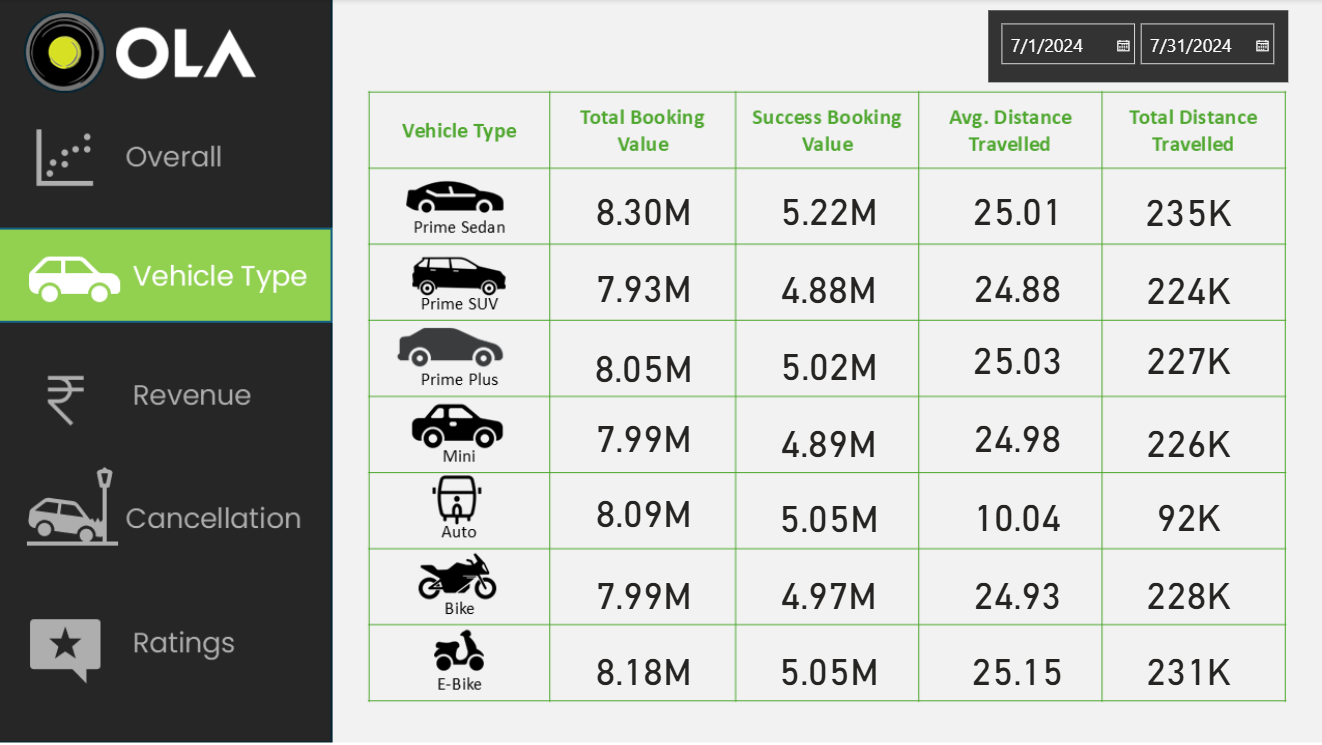

What the dashboard file says about the page in this screenshot:
{"tool":"powerbi","page":{"name":"Vehicle Type","canvas":[1280,720],"ordinal":1},"visuals":[{"type":"card","fields":{"Values":["Sum(July.Booking_Value)"]},"box":[719.8,169.6,165.3,64.1],"z":0},{"type":"card","fields":{"Values":["Sum(July.Booking_Value)"]},"box":[719.8,246.6,165.3,62.7],"z":1000},{"type":"card","fields":{"Values":["Sum(July.Booking_Value)"]},"box":[719.8,319.3,165.3,64.1],"z":2000},{"type":"card","fields":{"Values":["Sum(July.Booking_Value)"]},"box":[719.8,394.8,165.3,64.1],"z":3000},{"type":"card","fields":{"Values":["Sum(July.Booking_Value)"]},"box":[719.8,470.4,165.3,55.6],"z":4000},{"type":"card","fields":{"Values":["Sum(July.Booking_Value)"]},"box":[719.8,540.2,165.3,64.1],"z":5000},{"type":"card","fields":{"Values":["Sum(July.Booking_Value)"]},"box":[719.8,614.3,165.3,64.1],"z":6000},{"type":"card","fields":{"Values":["Sum(July.Booking_Value)"]},"box":[541.6,169.6,165.3,64.1],"z":7000},{"type":"card","fields":{"Values":["Sum(July.Booking_Value)"]},"box":[541.6,245.2,165.3,64.1],"z":8000},{"type":"card","fields":{"Values":["Sum(July.Booking_Value)"]},"box":[541.6,322.1,165.3,64.1],"z":9000},{"type":"card","fields":{"Values":["Sum(July.Booking_Value)"]},"box":[541.6,389.1,165.3,64.1],"z":10000},{"type":"card","fields":{"Values":["Sum(July.Booking_Value)"]},"box":[541.6,461.8,165.3,64.1],"z":11000},{"type":"card","fields":{"Values":["Sum(July.Booking_Value)"]},"box":[541.6,540.2,165.3,64.1],"z":12000},{"type":"card","fields":{"Values":["Sum(July.Booking_Value)"]},"box":[541.6,614.3,165.3,64.1],"z":13000},{"type":"card","fields":{"Values":["Avg(July.Ride_Distance)"]},"box":[902.3,169.6,165.3,64.1],"z":14000},{"type":"card","fields":{"Values":["Avg(July.Ride_Distance)"]},"box":[902.3,466.1,165.3,64.1],"z":15000},{"type":"card","fields":{"Values":["Avg(July.Ride_Distance)"]},"box":[902.3,540.2,165.3,64.1],"z":16000},{"type":"card","fields":{"Values":["Avg(July.Ride_Distance)"]},"box":[902.3,614.3,165.3,64.1],"z":17000},{"type":"card","fields":{"Values":["Sum(July.Ride_Distance)"]},"box":[1067.6,614.3,165.3,64.1],"z":18000},{"type":"card","fields":{"Values":["Sum(July.Ride_Distance)"]},"box":[1067.6,540.2,165.3,64.1],"z":19000},{"type":"card","fields":{"Values":["Sum(July.Ride_Distance)"]},"box":[1067.6,466.1,165.3,64.1],"z":20000},{"type":"card","fields":{"Values":["Sum(July.Ride_Distance)"]},"box":[1067.6,394.8,165.3,64.1],"z":21000},{"type":"card","fields":{"Values":["Sum(July.Ride_Distance)"]},"box":[1067.6,313.6,165.3,64.1],"z":22000},{"type":"card","fields":{"Values":["Sum(July.Ride_Distance)"]},"box":[1067.6,246.6,165.3,64.1],"z":23000},{"type":"card","fields":{"Values":["Sum(July.Ride_Distance)"]},"box":[1067.6,171,165.3,64.1],"z":24000},{"type":"card","fields":{"Values":["Avg(July.Ride_Distance)"]},"box":[902.3,389.1,165.3,64.1],"z":25000},{"type":"card","fields":{"Values":["Avg(July.Ride_Distance)"]},"box":[902.3,313.6,165.3,64.1],"z":26000},{"type":"card","fields":{"Values":["Avg(July.Ride_Distance)"]},"box":[902.3,245.2,165.3,64.1],"z":27000},{"type":"slicer","title":"Date","fields":{"Values":["July.Date"]},"box":[956.4,11.4,289.4,69.8],"z":28000},{"type":"actionButton","box":[0,115.5,326.4,86.9],"z":29000},{"type":"actionButton","box":[0,332.1,326.4,86.9],"z":30000},{"type":"actionButton","box":[0,453.3,326.4,86.9],"z":31000},{"type":"actionButton","box":[0,588.7,326.4,86.9],"z":32000}]}

Visuals, with their boxes on the page's 1280x720 design canvas (x1, y1, x2, y2). These are canvas units, not pixel positions in the 1322x745 screenshot, which may show the page scaled, cropped or inside an application window:
card - Sum(July.Booking_Value): l=720, t=170, r=885, b=234
card - Sum(July.Booking_Value): l=720, t=247, r=885, b=309
card - Sum(July.Booking_Value): l=720, t=319, r=885, b=383
card - Sum(July.Booking_Value): l=720, t=395, r=885, b=459
card - Sum(July.Booking_Value): l=720, t=470, r=885, b=526
card - Sum(July.Booking_Value): l=720, t=540, r=885, b=604
card - Sum(July.Booking_Value): l=720, t=614, r=885, b=678
card - Sum(July.Booking_Value): l=542, t=170, r=707, b=234
card - Sum(July.Booking_Value): l=542, t=245, r=707, b=309
card - Sum(July.Booking_Value): l=542, t=322, r=707, b=386
card - Sum(July.Booking_Value): l=542, t=389, r=707, b=453
card - Sum(July.Booking_Value): l=542, t=462, r=707, b=526
card - Sum(July.Booking_Value): l=542, t=540, r=707, b=604
card - Sum(July.Booking_Value): l=542, t=614, r=707, b=678
card - Avg(July.Ride_Distance): l=902, t=170, r=1068, b=234
card - Avg(July.Ride_Distance): l=902, t=466, r=1068, b=530
card - Avg(July.Ride_Distance): l=902, t=540, r=1068, b=604
card - Avg(July.Ride_Distance): l=902, t=614, r=1068, b=678
card - Sum(July.Ride_Distance): l=1068, t=614, r=1233, b=678
card - Sum(July.Ride_Distance): l=1068, t=540, r=1233, b=604
card - Sum(July.Ride_Distance): l=1068, t=466, r=1233, b=530
card - Sum(July.Ride_Distance): l=1068, t=395, r=1233, b=459
card - Sum(July.Ride_Distance): l=1068, t=314, r=1233, b=378
card - Sum(July.Ride_Distance): l=1068, t=247, r=1233, b=311
card - Sum(July.Ride_Distance): l=1068, t=171, r=1233, b=235
card - Avg(July.Ride_Distance): l=902, t=389, r=1068, b=453
card - Avg(July.Ride_Distance): l=902, t=314, r=1068, b=378
card - Avg(July.Ride_Distance): l=902, t=245, r=1068, b=309
"Date" slicer: l=956, t=11, r=1246, b=81
actionButton: l=0, t=116, r=326, b=202
actionButton: l=0, t=332, r=326, b=419
actionButton: l=0, t=453, r=326, b=540
actionButton: l=0, t=589, r=326, b=676
